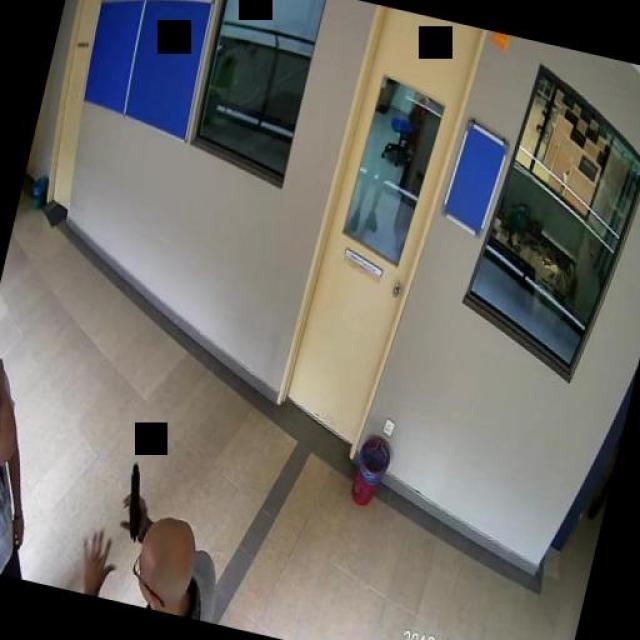gun: (115, 462, 153, 538)
